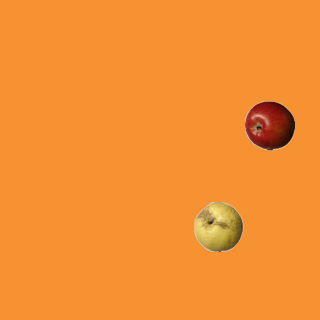Apple Braeburn: (244, 100, 294, 150)
Apple Golden 1: (193, 201, 243, 251)
